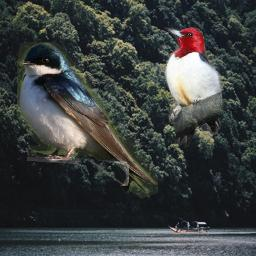Swallow: (17, 42, 158, 201)
Woodpecker: (162, 27, 224, 152)
